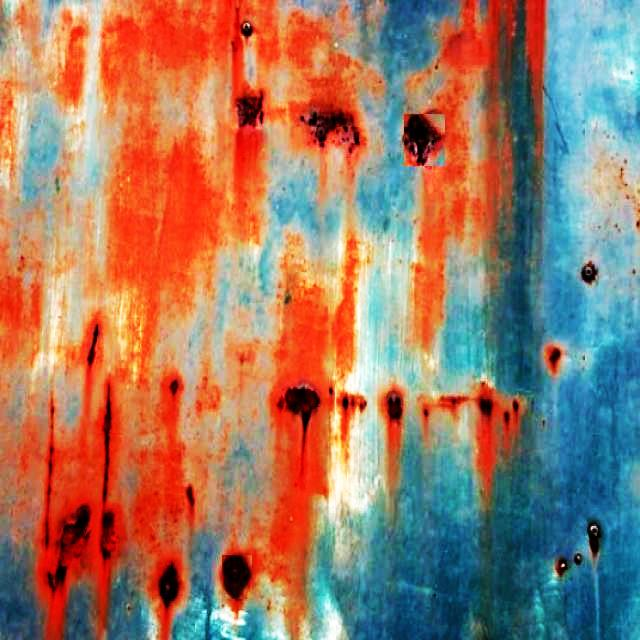Corrosion: (100, 1, 293, 214), (108, 114, 232, 380), (271, 277, 329, 626), (136, 372, 193, 640), (287, 9, 363, 156), (333, 239, 368, 470), (412, 167, 449, 352), (46, 506, 90, 640), (0, 240, 41, 366), (46, 4, 90, 112), (447, 60, 470, 240), (445, 0, 490, 72), (40, 397, 58, 572), (381, 387, 405, 514), (526, 0, 547, 142), (96, 508, 118, 640), (0, 78, 26, 176), (478, 382, 498, 504), (405, 114, 443, 165), (3, 0, 40, 52), (80, 336, 111, 392), (101, 382, 113, 520), (489, 0, 500, 114), (418, 396, 432, 434), (439, 397, 468, 412), (547, 346, 563, 372)
